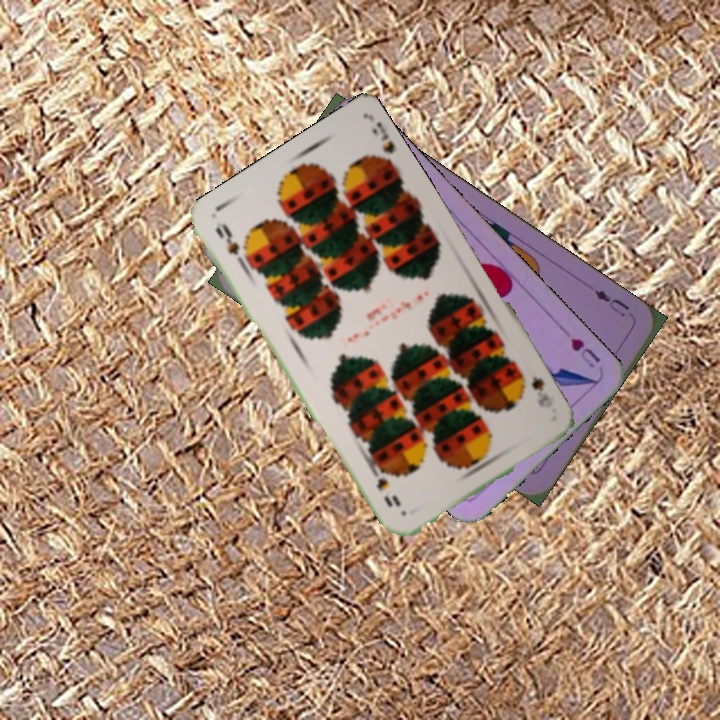EU: (590, 285, 632, 320)
HU: (566, 333, 603, 371)
S9: (211, 220, 252, 270), (527, 371, 557, 411)
